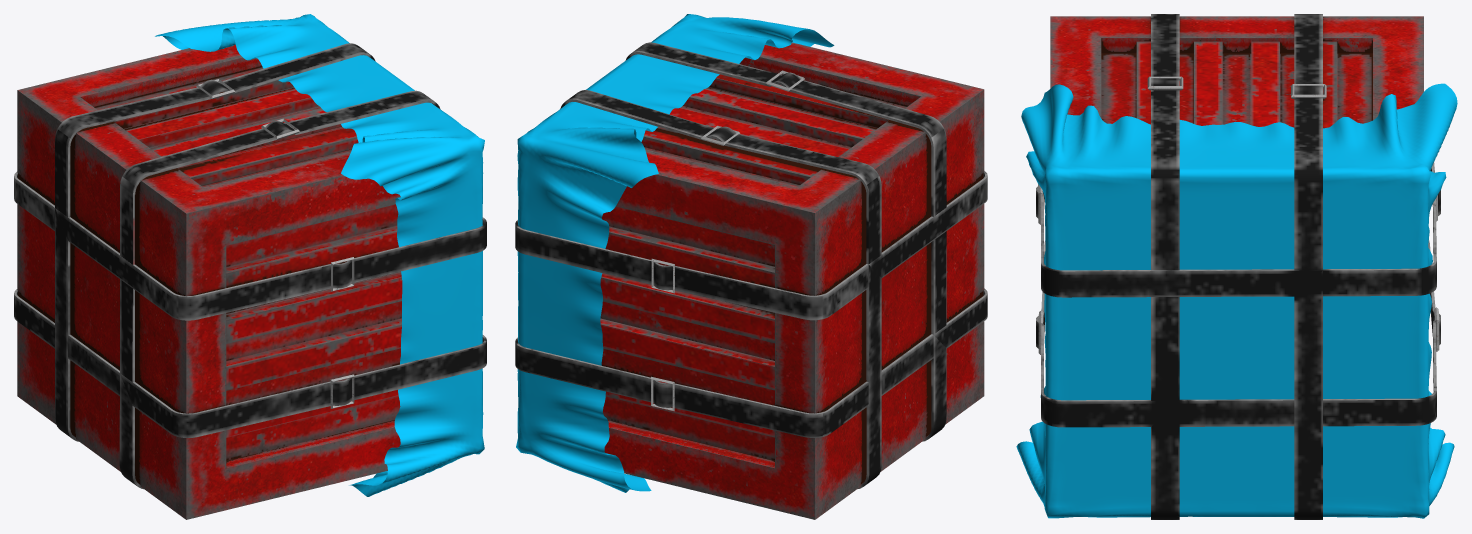
File: PubgBox.obj
The picture shows the model from 3 angles, left to right: view 1: azimuth 30°, elevation 25°; view 2: azimuth 150°, elevation 25°; view 3: azimuth 270°, elevation 25°; orthographic projection. The views are drawn at different scales.
Visible parts, largest first — view 1: 1; view 2: 1; view 3: 1.
Boxes of the visible parts, <box> form: 1: <box>14,14,486,519</box>; 1: <box>515,14,987,519</box>; 1: <box>1016,14,1457,519</box>.
Size of the model in its own units: 6.94 by 7.61 by 7.69.
1 material, 1 textured.
